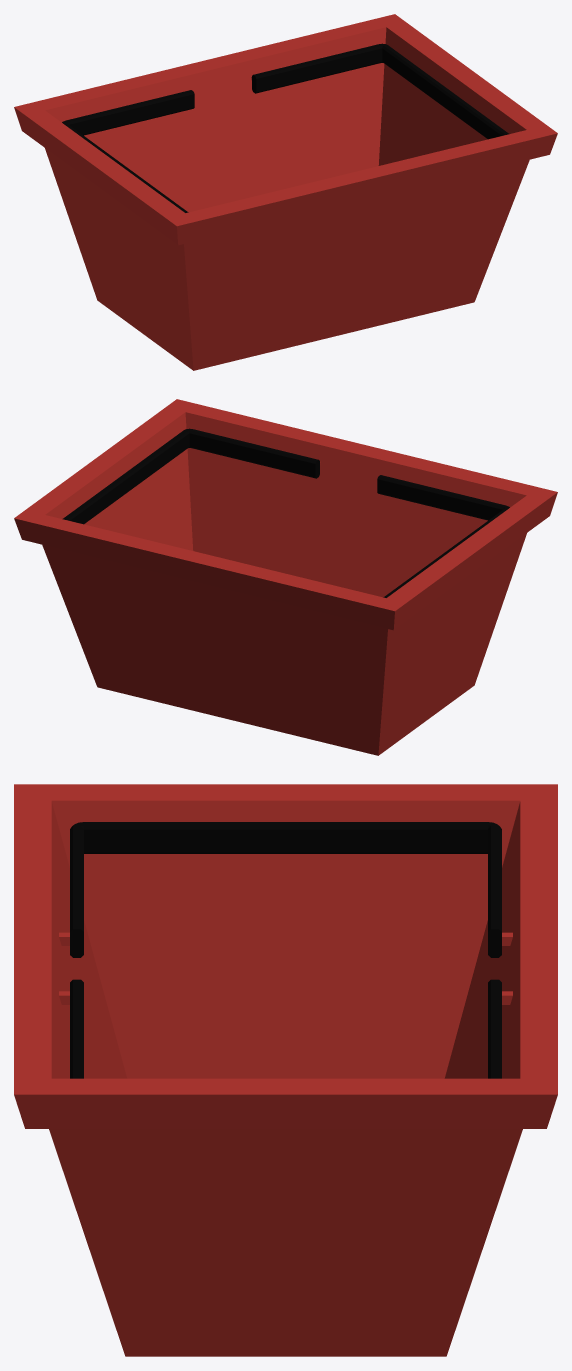
File: CestaMarket.fbx
3 views of the same model, one above another, from view 1: azimuth 30°, elevation 25°; view 2: azimuth 150°, elevation 25°; view 3: azimuth 270°, elevation 25° (orthographic). The views are drawn at different scales.
Visible parts, largest first — view 1: Cesta; view 2: Cesta; view 3: Cesta.
Boxes of the visible parts, x1=… form: Cesta: x1=14, y1=14, x2=557, y2=370; Cesta: x1=14, y1=399, x2=557, y2=755; Cesta: x1=14, y1=784, x2=557, y2=1356.
Bounding box in the file's own units: 195 × 88.55 × 144.
